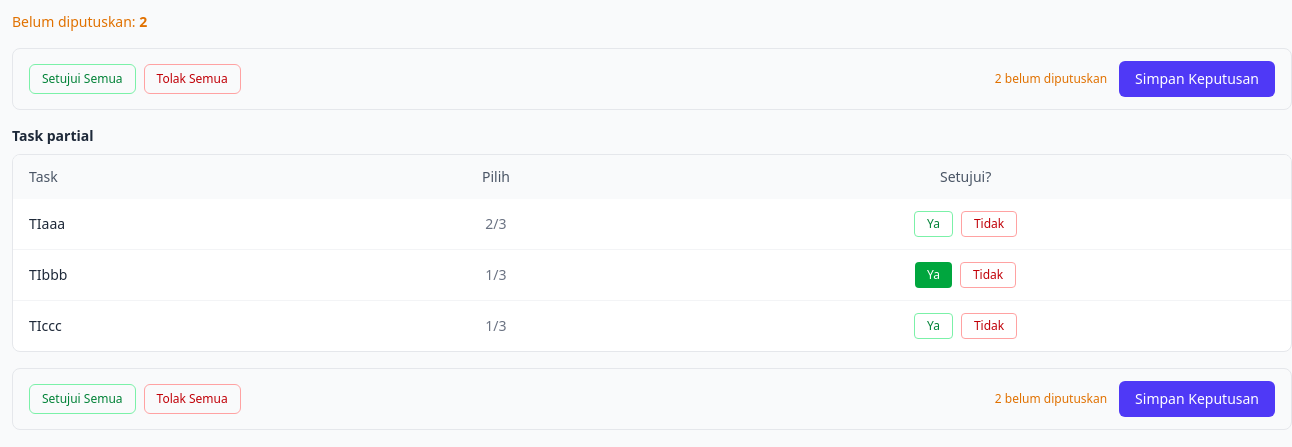
it: ReviewForm — Requirement (011): counter 'Belum diputuskan' di header reaktif › counter menghilang begitu semua task sudah diputuskan via klik (tanpa Simpan)
Click the button "Ya" in the row of "TIaaa".
click(933, 224)  # box [914,211,953,237]
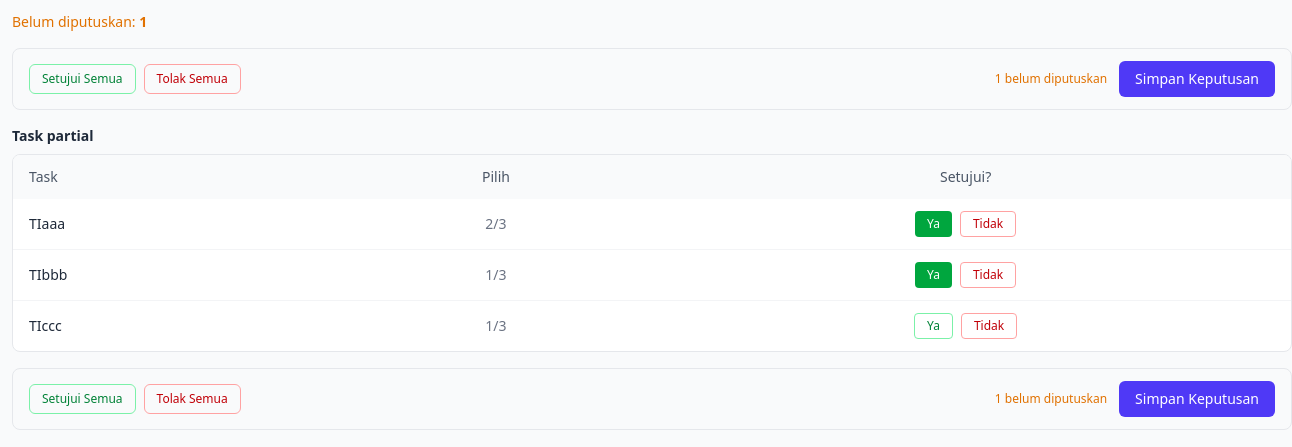
Click the button "Ya" in the row of "TIccc".
click(933, 326)  # box [914,313,953,339]
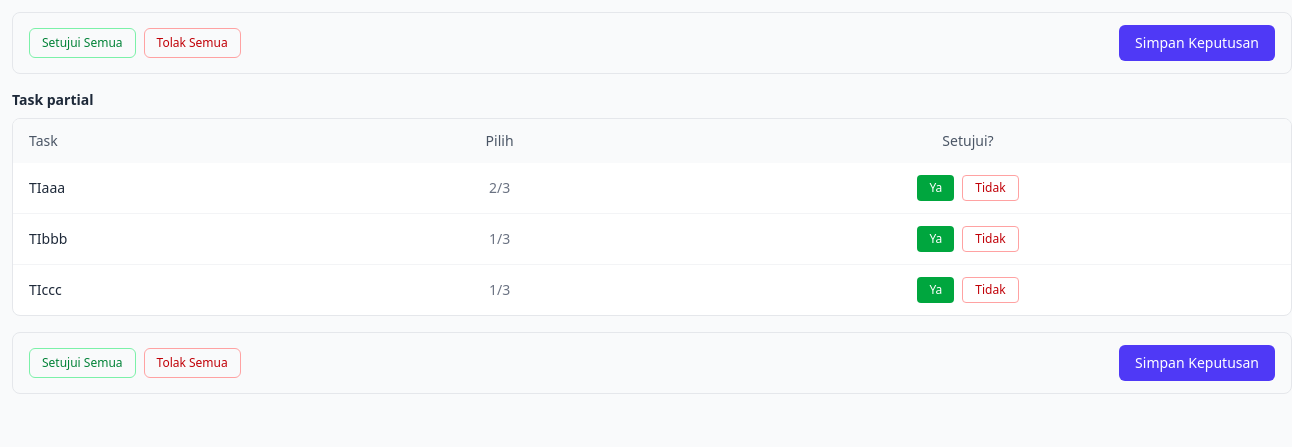
Now the text "Belum diputuskan:" is gone
